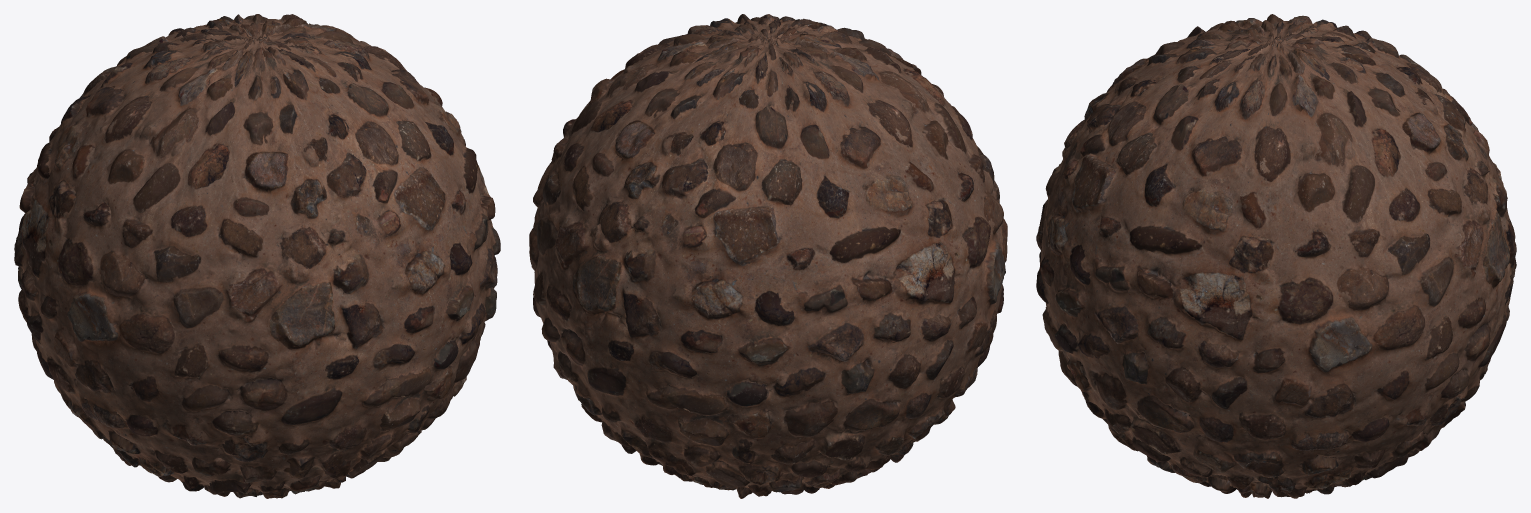
File: stone_embedded_concrete_4k.gltf
3 views of the same model, side by side, from view 1: azimuth 30°, elevation 25°; view 2: azimuth 150°, elevation 25°; view 3: azimuth 270°, elevation 25° (orthographic).
Visible parts, largest first — view 1: sphere_gltf; view 2: sphere_gltf; view 3: sphere_gltf.
Boxes of the visible parts, left/top/right/bottom form: sphere_gltf: left=14, top=14, right=500, bottom=498; sphere_gltf: left=529, top=14, right=1007, bottom=498; sphere_gltf: left=1036, top=14, right=1516, bottom=498.
Bounding box in the file's own units: 2.18 × 2.18 × 2.16.
1 material, 1 textured.
